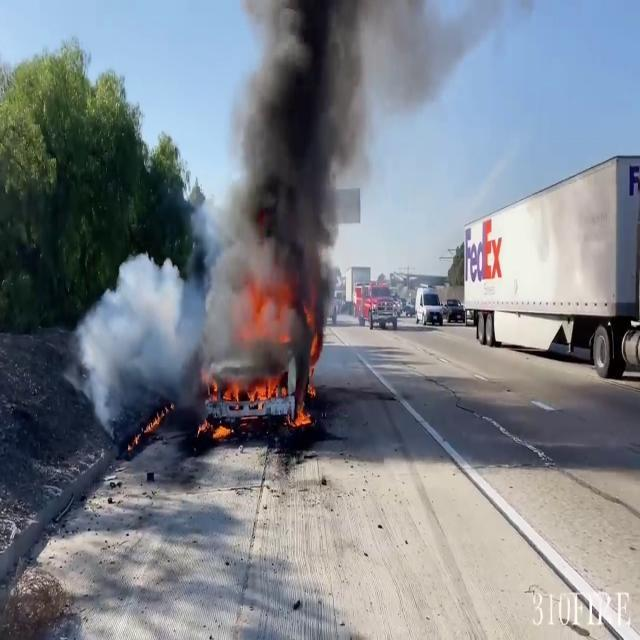Fire: (201, 262, 299, 414)
Smoke: (202, 0, 380, 369), (74, 238, 222, 438)
